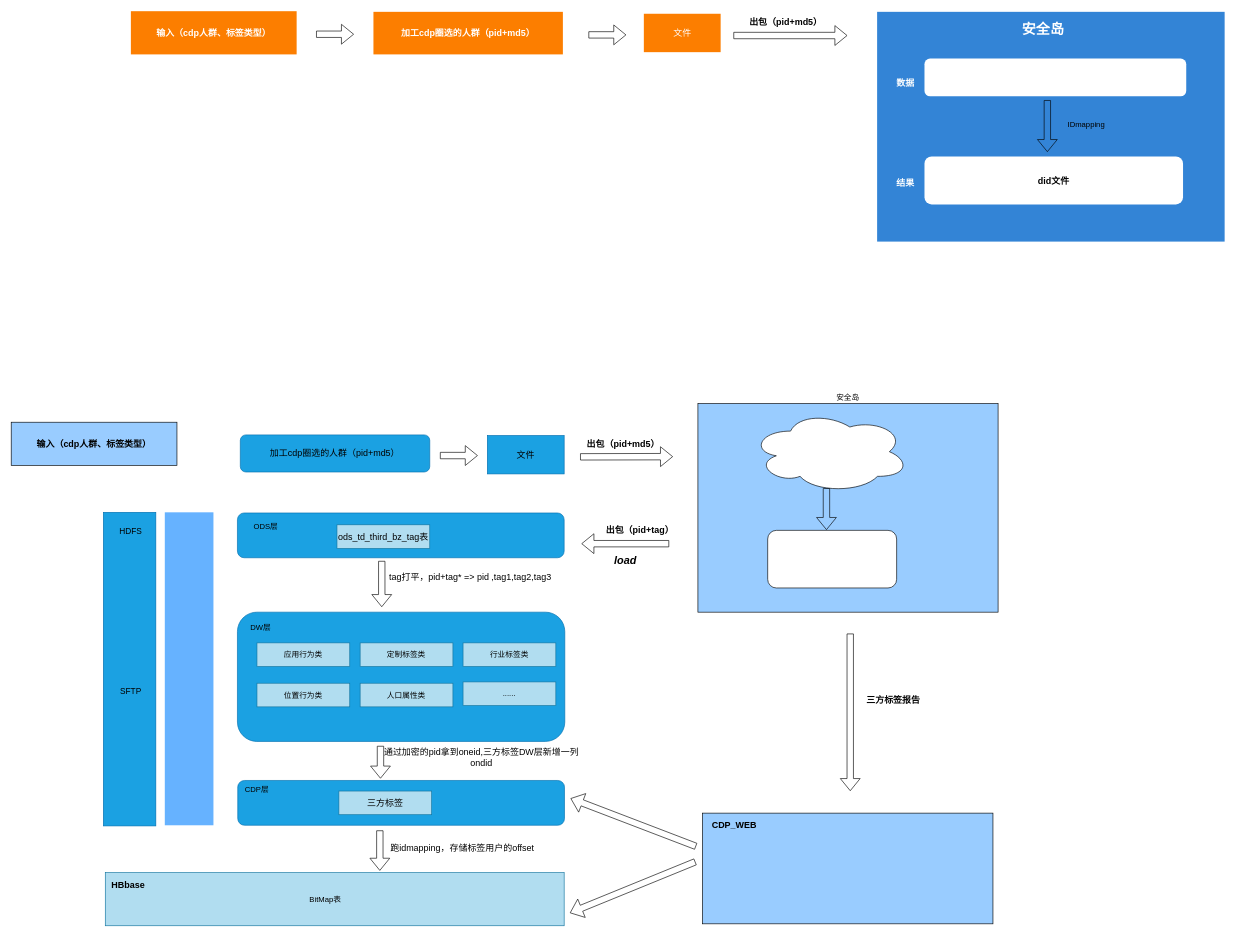
This 1236x937 diagram has some shape labels left out. The shapes that lost their labels are listed below. From the top down, each one's box as (x1, y1, x2, y2) in pixels, then its label:
(924, 58, 1186, 96): td大库
(750, 410, 909, 493): pid与td大库匹配，拿到三方标签
(767, 530, 897, 588): 1、三方标签文件 2、三方标签报告
(164, 512, 213, 825): SparkSQL
(702, 812, 993, 924): 输出（三方标签详情、三方标签报告）
